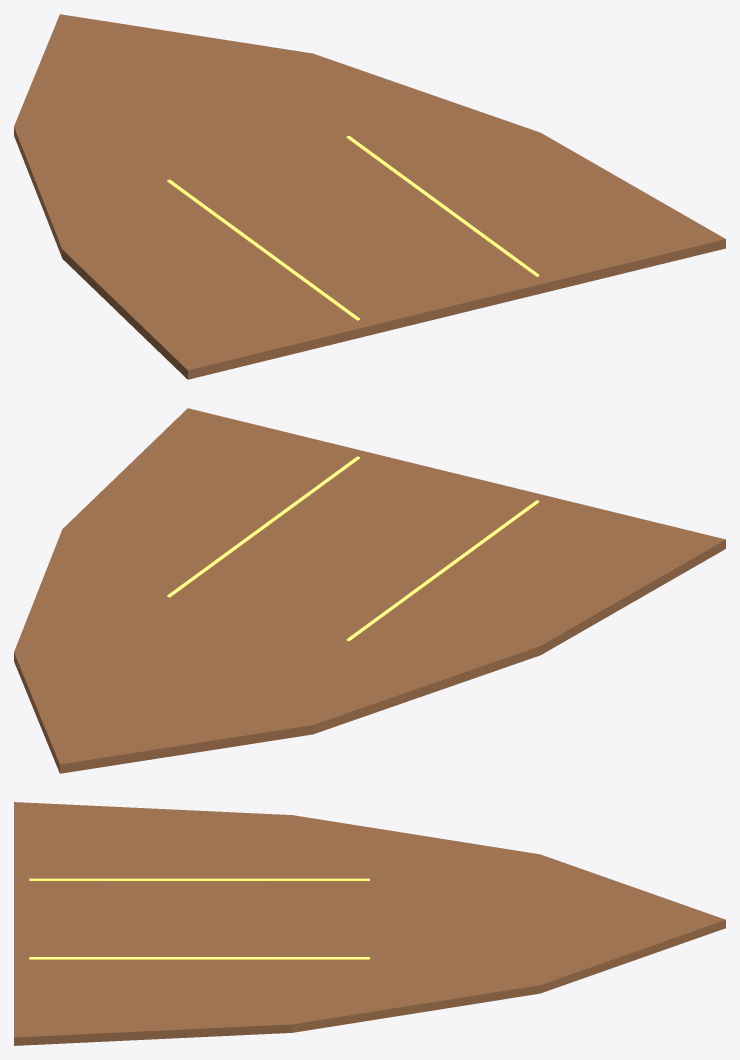
Rendered from Triangular_Jaw_Dock.glb.
The picture shows the model from 3 angles, top to bottom: view 1: azimuth 30°, elevation 25°; view 2: azimuth 150°, elevation 25°; view 3: azimuth 270°, elevation 25°; orthographic projection. The views are drawn at different scales.
Parts seen in each view (by area): view 1: Triangular_loading_dock, Dock_runway_light (×2); view 2: Triangular_loading_dock, Dock_runway_light (×2); view 3: Triangular_loading_dock, Dock_runway_light (×2).
Part boxes in pixels (left/top/right/bottom): Triangular_loading_dock: left=14, top=14, right=725, bottom=379; Dock_runway_light (×2): left=167, top=135, right=539, bottom=320; Triangular_loading_dock: left=14, top=408, right=725, bottom=773; Dock_runway_light (×2): left=167, top=456, right=539, bottom=641; Triangular_loading_dock: left=14, top=802, right=725, bottom=1045; Dock_runway_light (×2): left=29, top=878, right=369, bottom=959.
Size of the model in its own units: 18 by 0.35 by 23.
